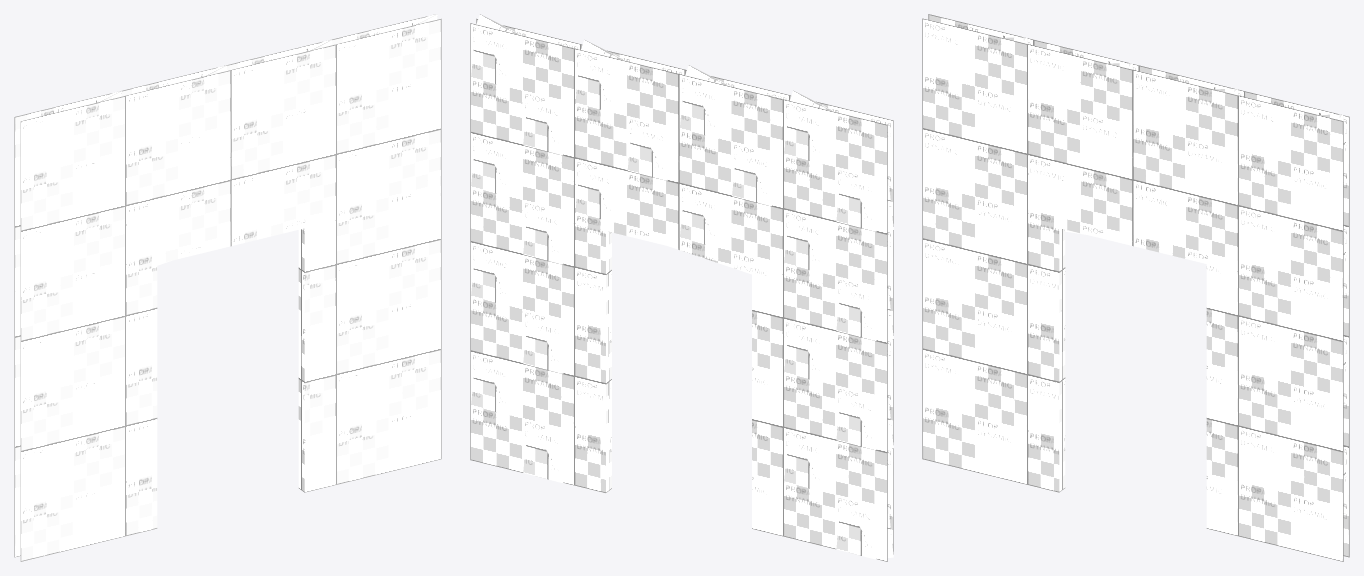
The model's file is Glass_Entry_4x4.fbx.
The picture shows the model from 3 angles, left to right: view 1: azimuth 30°, elevation 25°; view 2: azimuth 150°, elevation 25°; view 3: azimuth 330°, elevation 25°; orthographic projection.
Parts seen in each view (by area): view 1: Damaged_Door, Pristine_Glass_Door; view 2: Pristine_Glass_Door, Glass_Shards2_0__8___17_, Glass_Shards2_0__8___10_, Glass_Shards2_0__8___9_, Glass_Shards2_0__8___15_, Glass_Shards2_0__8___18_, Glass_Shards2_0__8___20_, Glass_Shards2_0__8___22_, Glass_Shards2_0__8___24_, Glass_Shards2_0__8___6_, Glass_Shards2_0__8___12_, Glass_Shards2_0__8___19_ (+11 smaller); view 3: Damaged_Door, Pristine_Glass_Door.
Part boxes in pixels (bbox=[...]): Damaged_Door: bbox=[14, 18, 441, 561]; Pristine_Glass_Door: bbox=[14, 14, 441, 561]; Pristine_Glass_Door: bbox=[470, 18, 893, 561]; Glass_Shards2_0__8___17_: bbox=[784, 90, 835, 164]; Glass_Shards2_0__8___10_: bbox=[575, 39, 626, 113]; Glass_Shards2_0__8___9_: bbox=[471, 14, 522, 87]; Glass_Shards2_0__8___15_: bbox=[679, 65, 731, 138]; Glass_Shards2_0__8___18_: bbox=[836, 169, 893, 231]; Glass_Shards2_0__8___20_: bbox=[836, 278, 893, 340]; Glass_Shards2_0__8___22_: bbox=[836, 387, 893, 450]; Glass_Shards2_0__8___24_: bbox=[836, 496, 893, 559]; Glass_Shards2_0__8___6_: bbox=[523, 201, 563, 264]; Glass_Shards2_0__8___12_: bbox=[575, 159, 615, 222]; Glass_Shards2_0__8___19_: bbox=[784, 210, 824, 273]; Damaged_Door: bbox=[922, 14, 1349, 561]; Pristine_Glass_Door: bbox=[926, 14, 1349, 557].
Bounding box in the file's own units: 400 × 405 × 10.98.
